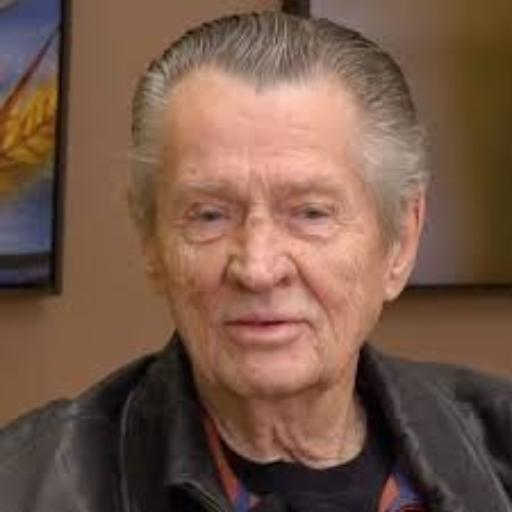left_eye: (289, 206, 336, 226)
left_lip_corner: (297, 312, 320, 335)
right_eye: (183, 205, 232, 228)
right_lip_corner: (217, 315, 240, 336)
